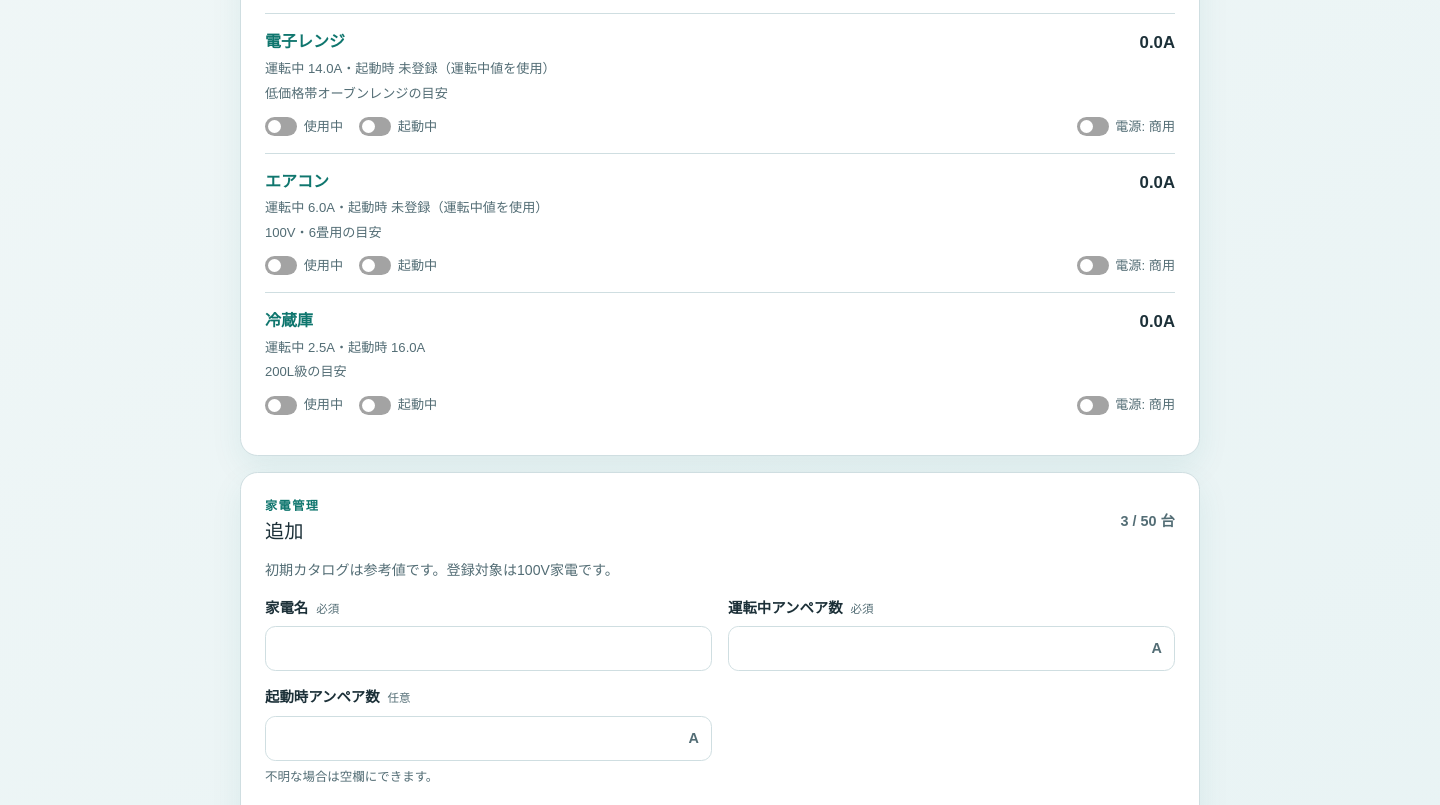
Home › moves an appliance load to the portable power station and checks startup output
The width and height of the screenshot is (1440, 805).
(page scrolled)
Expected: the list item "冷蔵庫" is shown, [265,292,1175,431]
Expected: the 3rd switch "電源: 商用" is shown, [1076,395,1175,415]
Step 1. Click the switch named "冷蔵庫を集計に含める" → coordinates (304, 405), box [265,395,343,415]
(page scrolled)
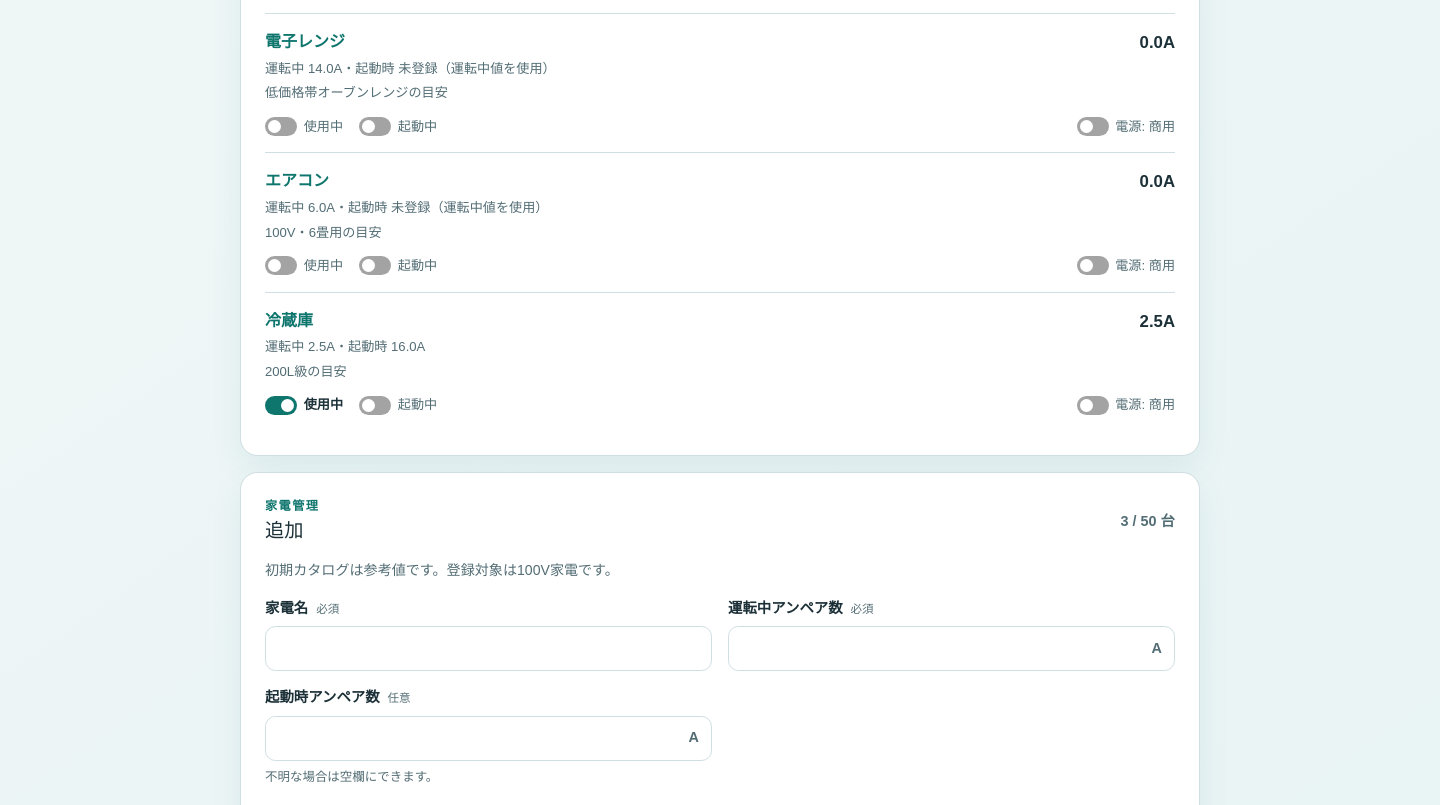
Step 2. Click the switch named "冷蔵庫を起動中にする" → coordinates (398, 405), box [359,395,437,415]
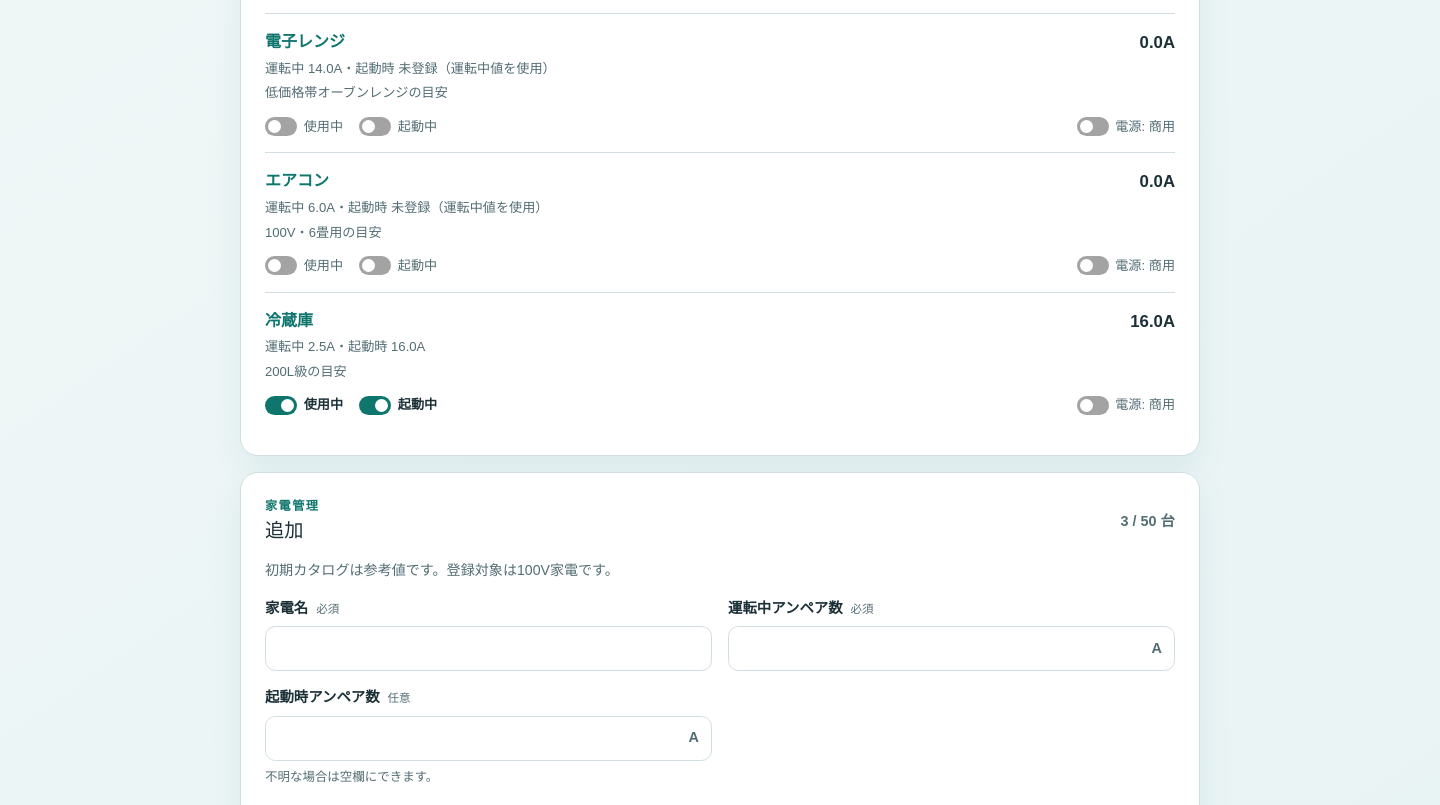
Step 3. Click the switch named "冷蔵庫の使用電源" → coordinates (1126, 405), box [1076,395,1175,415]
(page scrolled)
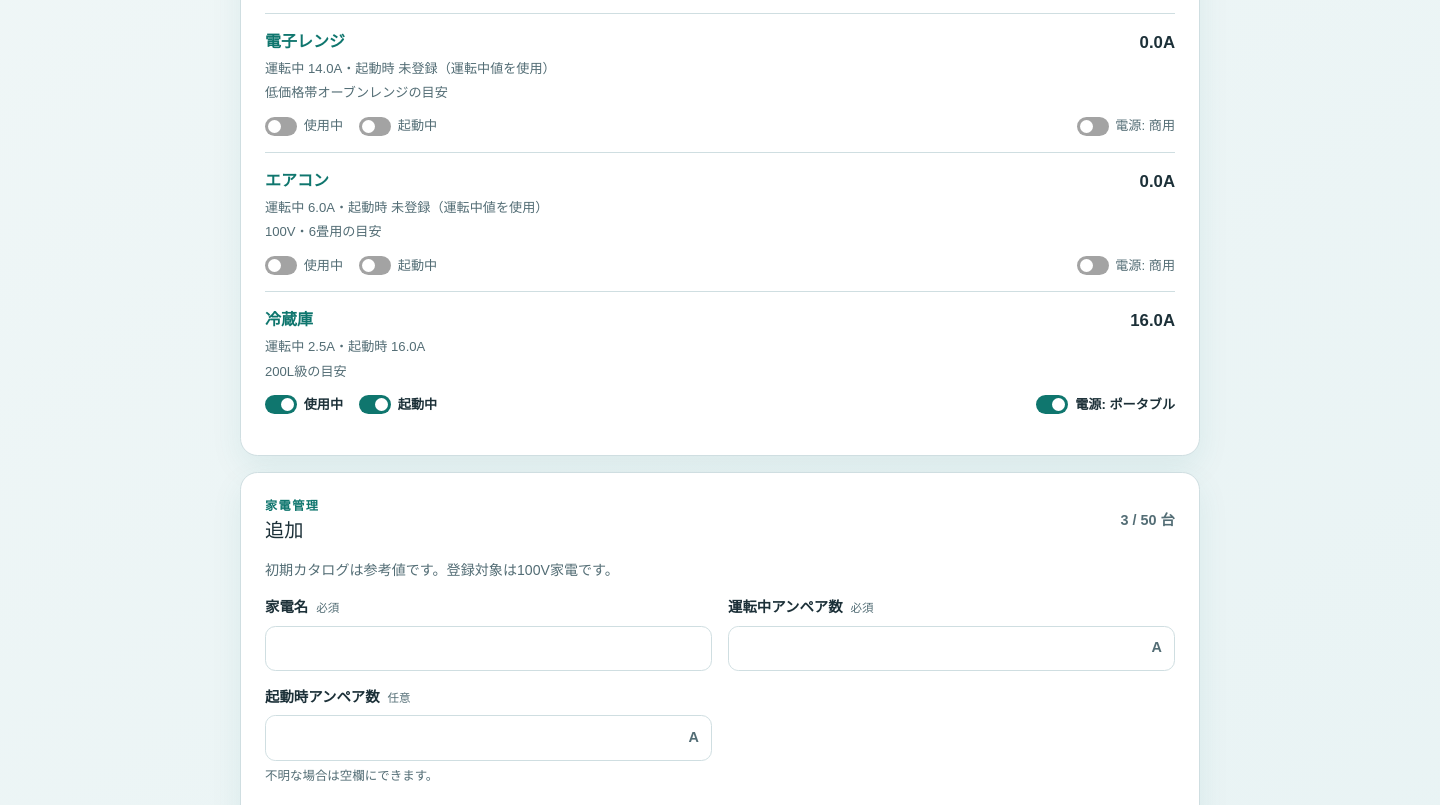
Now the switch named "冷蔵庫の使用電源" is checked, box [1036,395,1175,415]
Step 4. Click the switch named "冷蔵庫を起動中にする" → coordinates (398, 405), box [359,395,437,415]
(page scrolled)
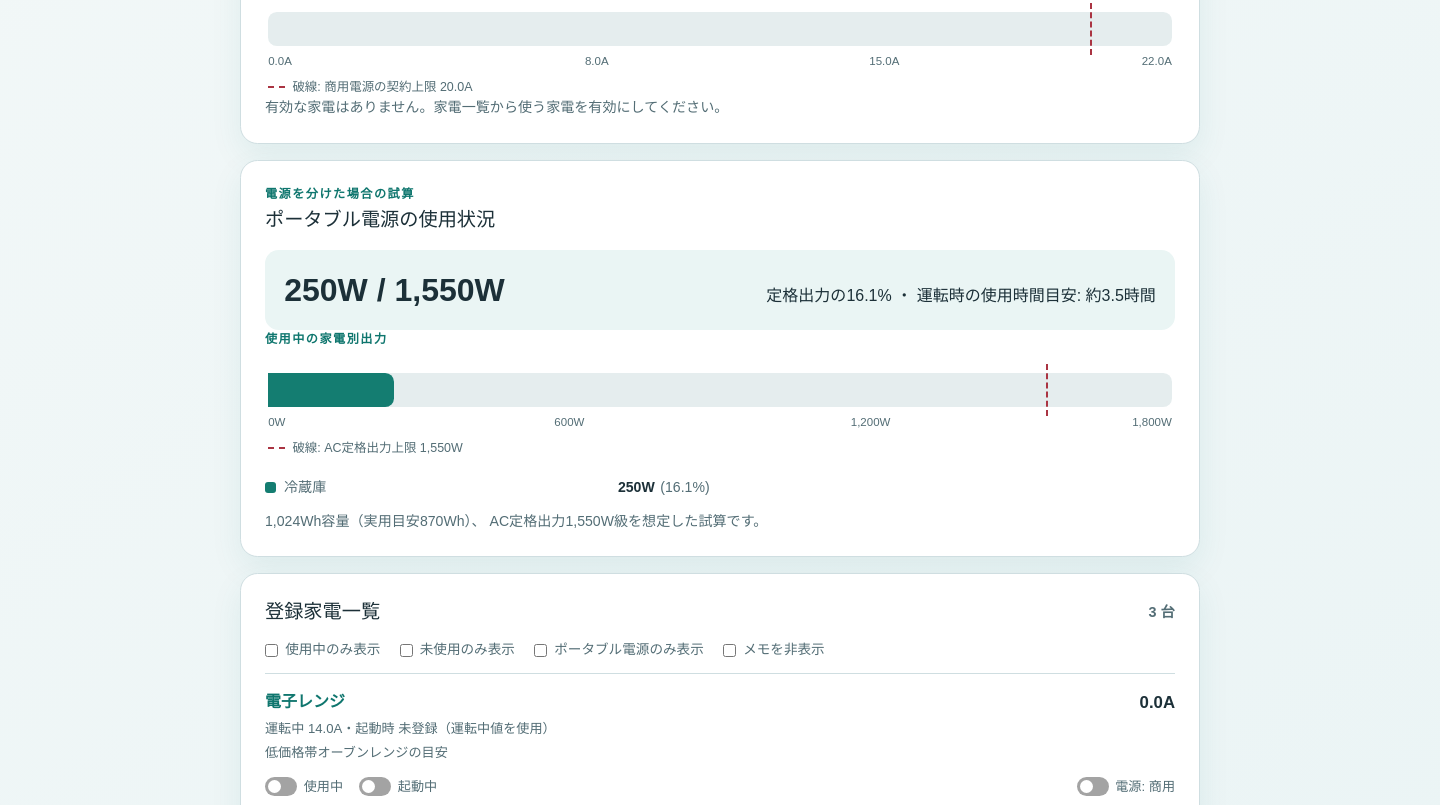
Now the text "250W / 1,550W" is shown, box [284,266,505,314]
